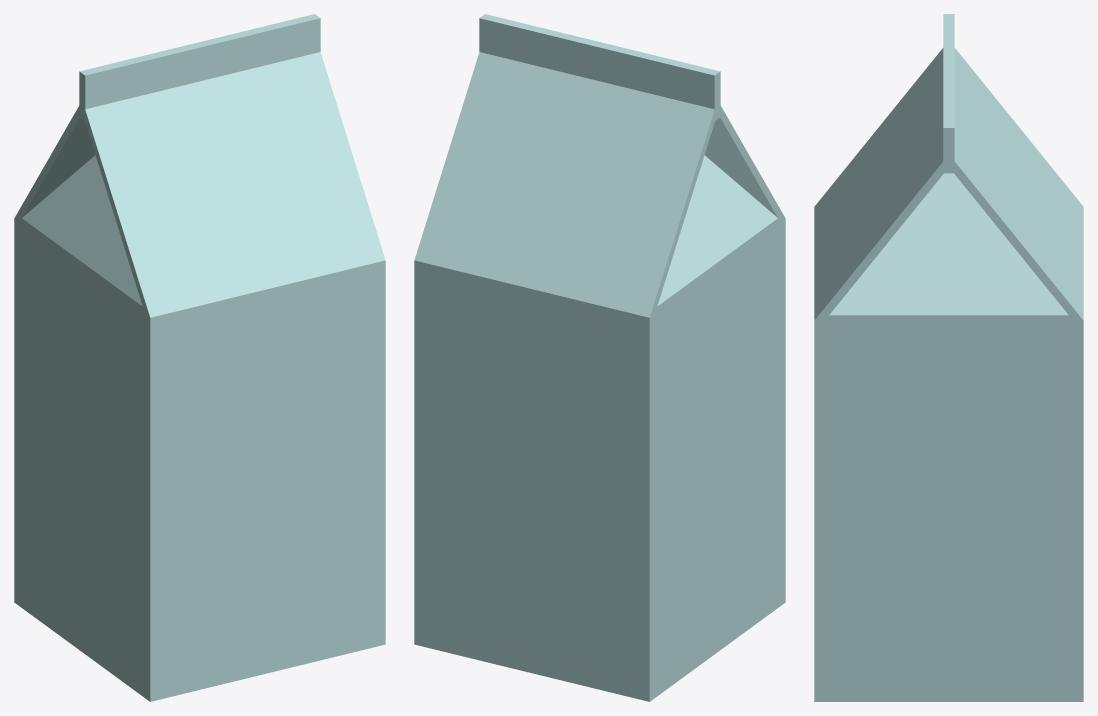
Rendered from Ing_Milk.fbx.
3 views of the same model, side by side, from view 1: azimuth 30°, elevation 25°; view 2: azimuth 150°, elevation 25°; view 3: azimuth 270°, elevation 25° (orthographic).
Visible parts, largest first — view 1: Ing_Milk_low; view 2: Ing_Milk_low; view 3: Ing_Milk_low.
Boxes of the visible parts, box(x1,y1,x2,y2) form: Ing_Milk_low: box(14, 14, 385, 701); Ing_Milk_low: box(414, 14, 785, 701); Ing_Milk_low: box(814, 14, 1083, 701).
Size of the model in its own units: 15.5 by 36.42 by 15.5.
